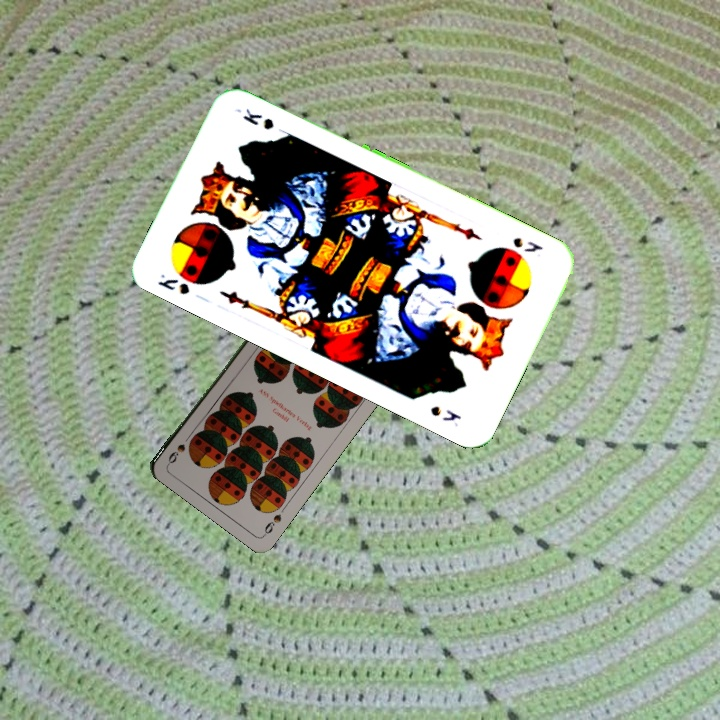S9: (259, 510, 284, 539)
SK: (153, 270, 208, 302), (508, 233, 546, 255)
